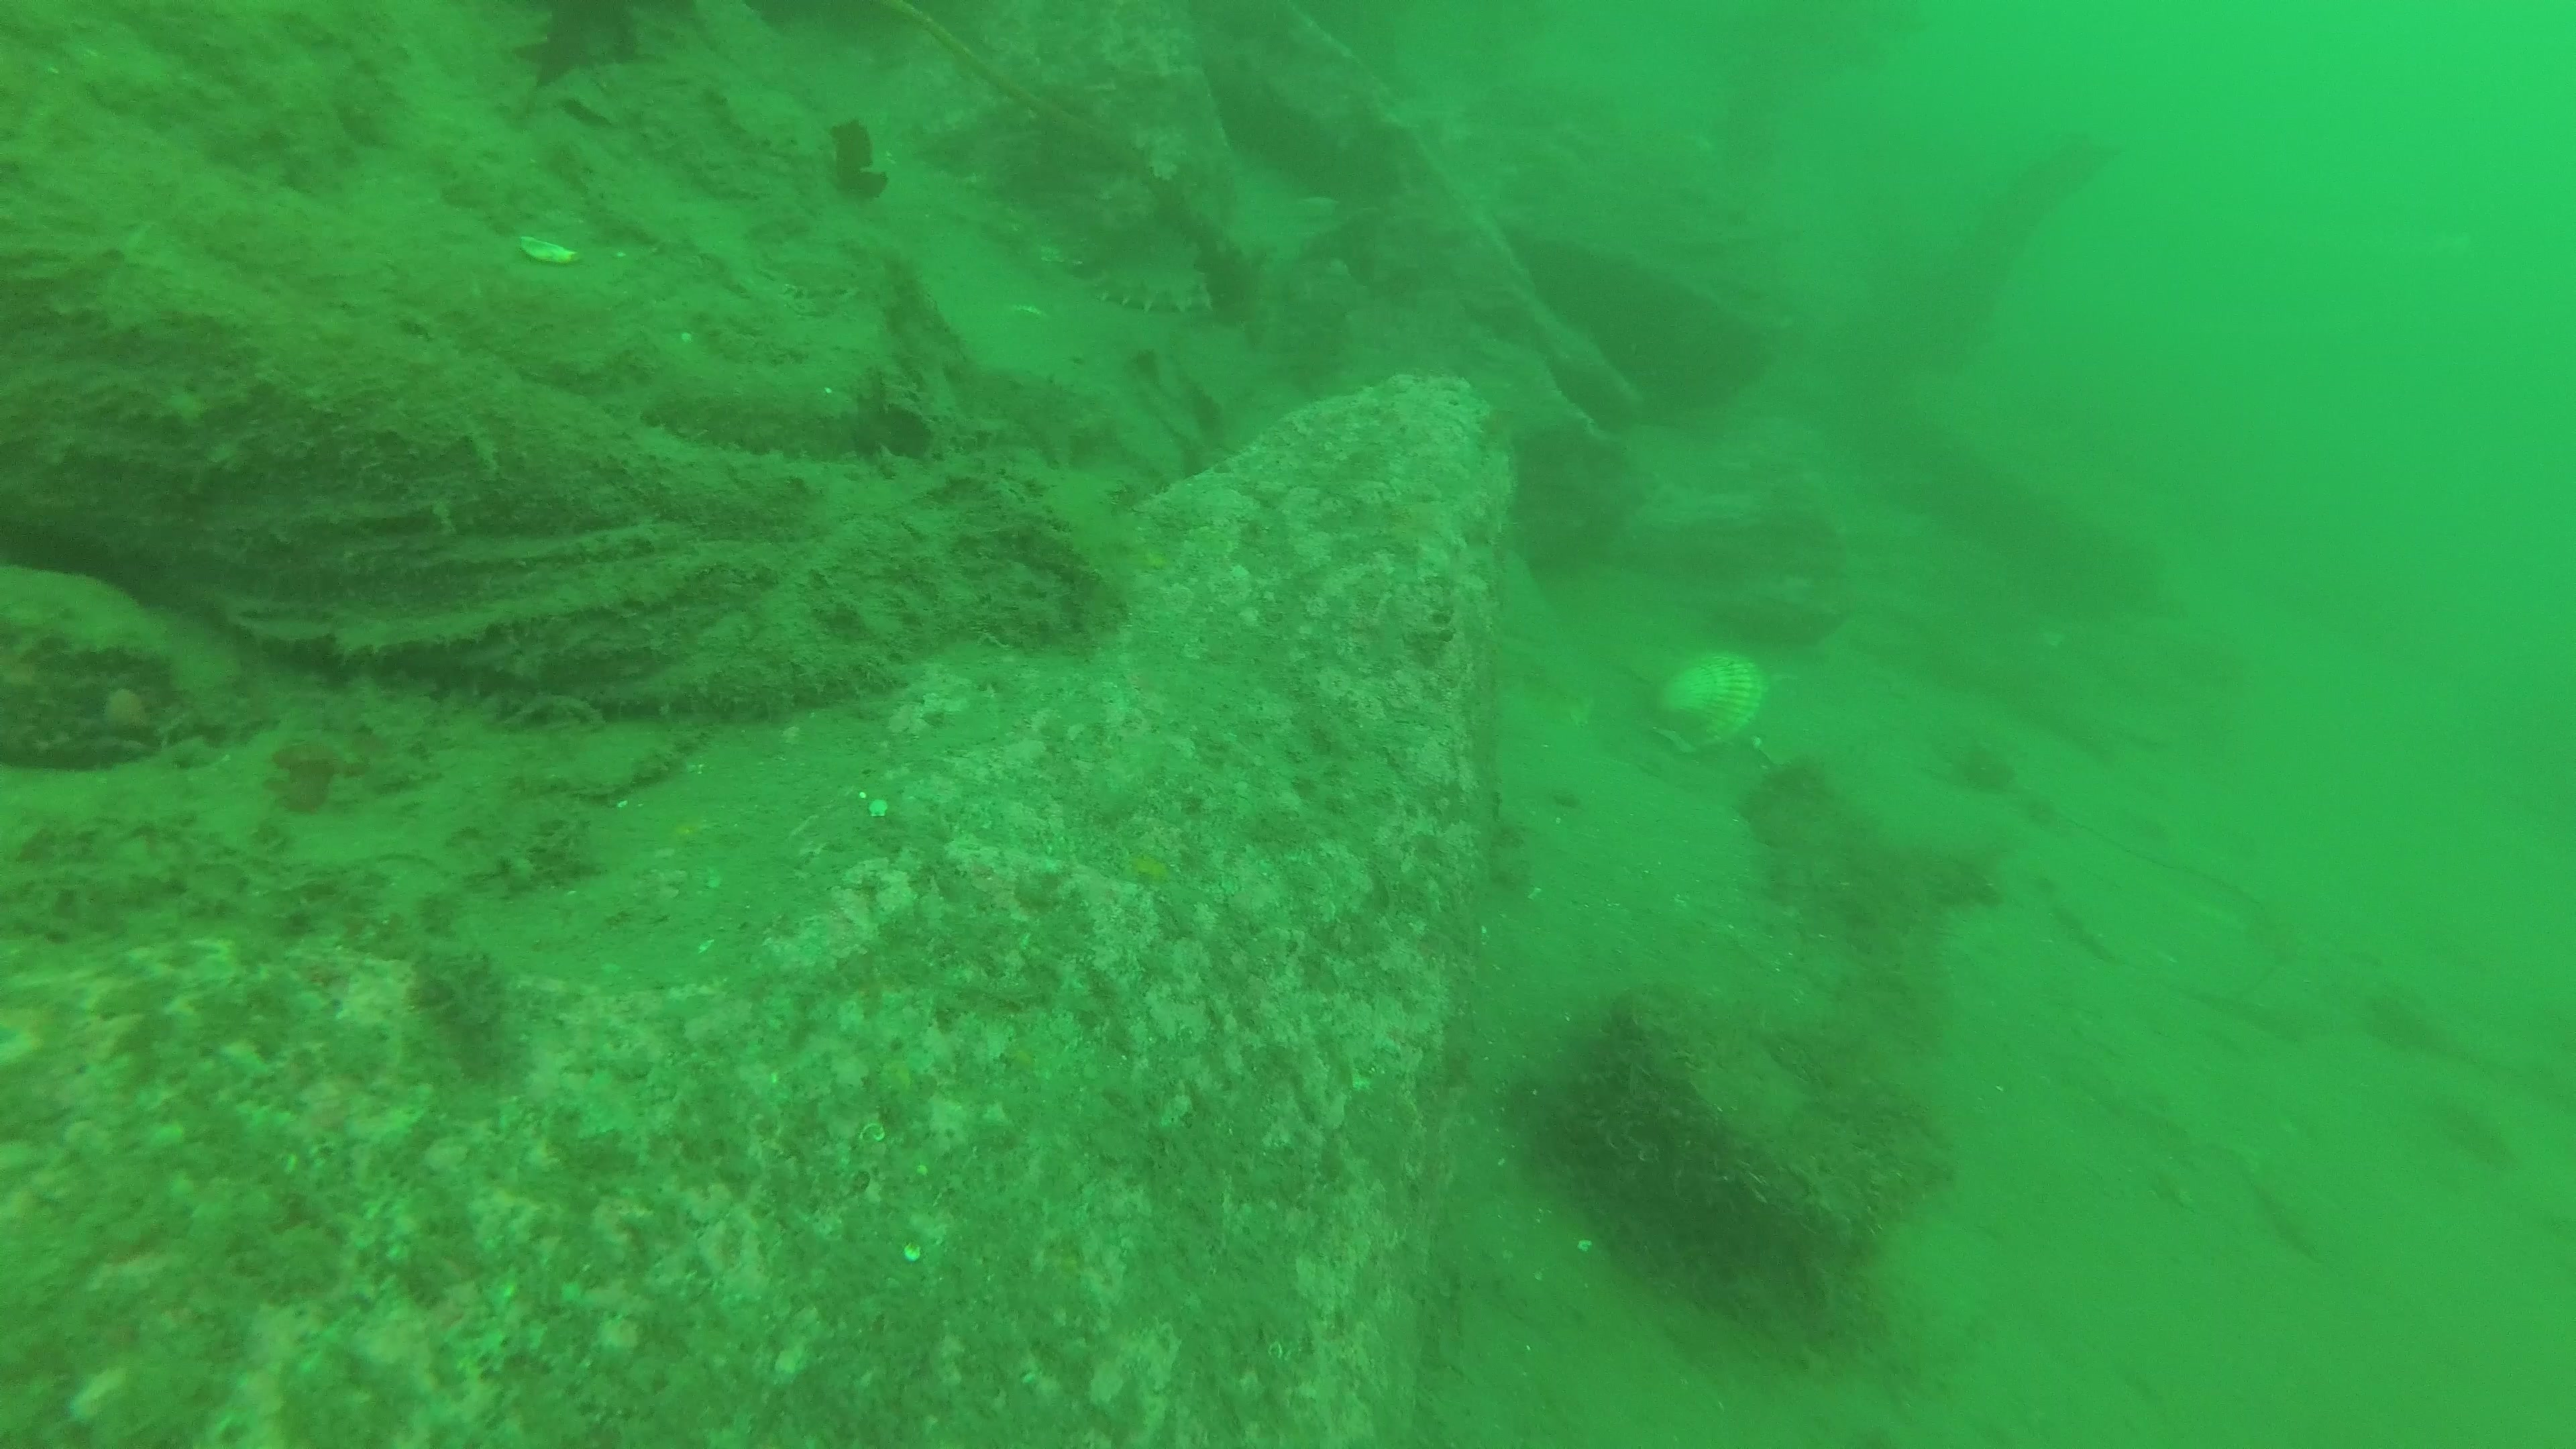holothurian: (1093, 267, 1219, 317)
scallop: (1660, 649, 1766, 755)
